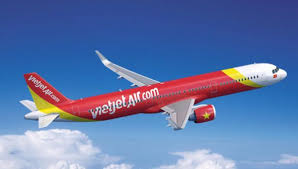maybay_dansu: (13, 46, 286, 126)
